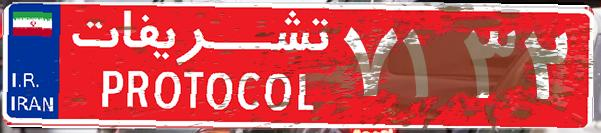1: (400, 20, 460, 115)
2: (520, 20, 580, 115)
3: (460, 20, 520, 115)
7: (340, 20, 400, 115)
تشریفات: (60, 8, 340, 125)
